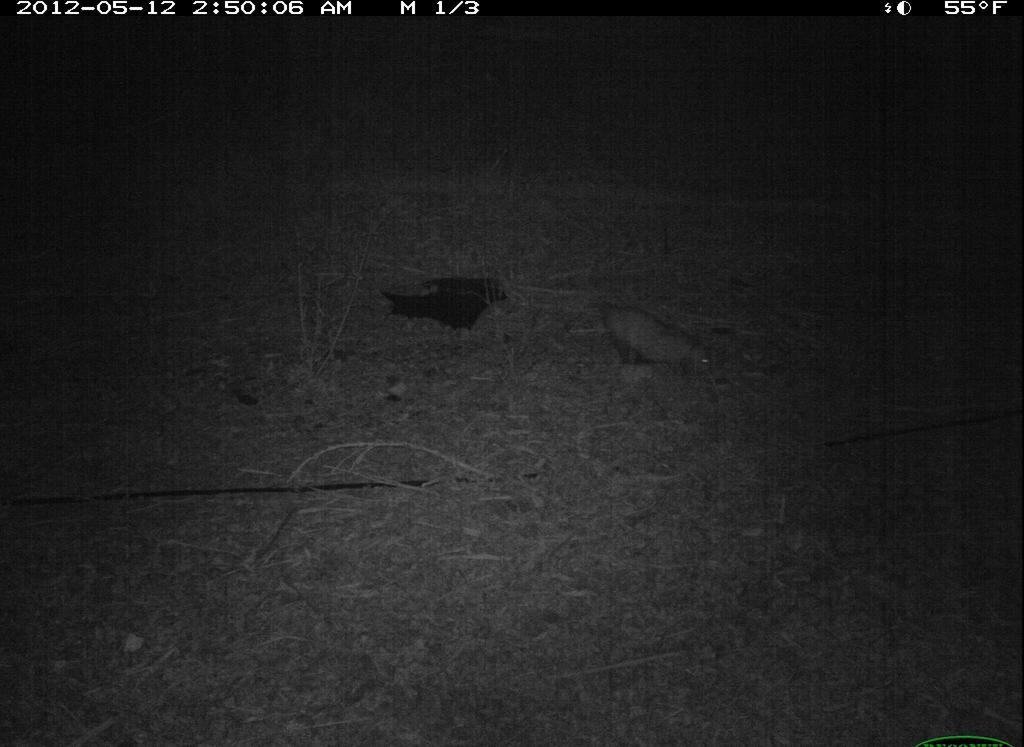opossum: (555, 293, 730, 390)
